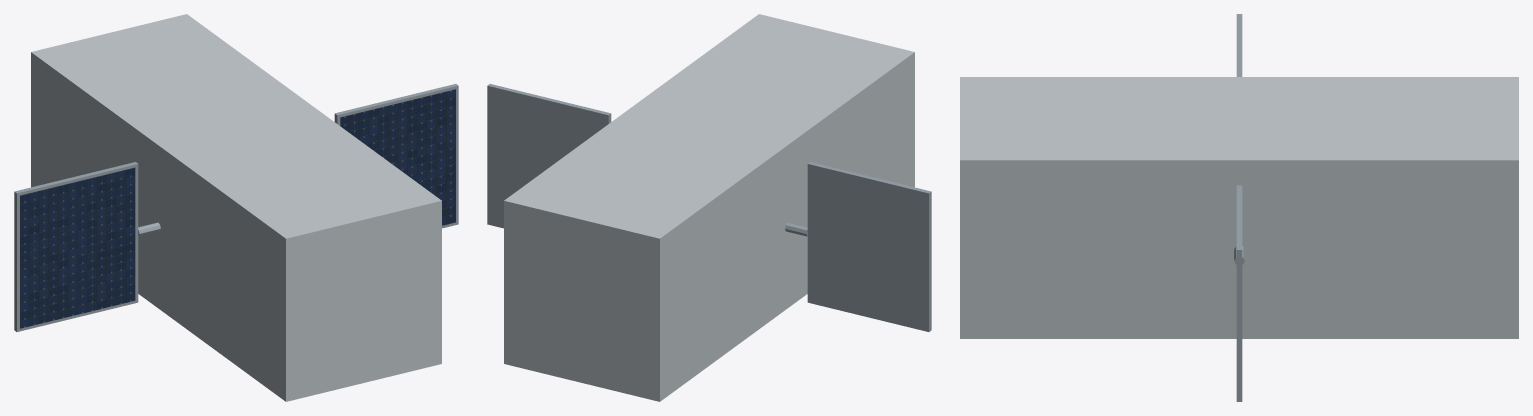
File: ref-msx-23851.glb
3 views of the same model, side by side, from view 1: azimuth 30°, elevation 25°; view 2: azimuth 150°, elevation 25°; view 3: azimuth 270°, elevation 25° (orthographic). The views are drawn at different scales.
Visible parts, largest first — view 1: Spacecraft body, Photovoltaic laminates (×2), Array frame (×2); view 2: Spacecraft body, Array frame (×2); view 3: Spacecraft body, Array frame.
Part boxes in pixels (box(x1,y1,x2,y2)): Spacecraft body: box(31, 14, 441, 401); Photovoltaic laminates (×2): box(20, 89, 455, 328); Array frame (×2): box(14, 84, 458, 331); Spacecraft body: box(504, 14, 914, 401); Array frame (×2): box(487, 84, 931, 331); Spacecraft body: box(960, 77, 1518, 338); Array frame: box(1236, 185, 1242, 401).
Bounding box in the file's own units: 5.1 × 1.8 × 5.1.
Materials: 3 (1 with a texture image).
